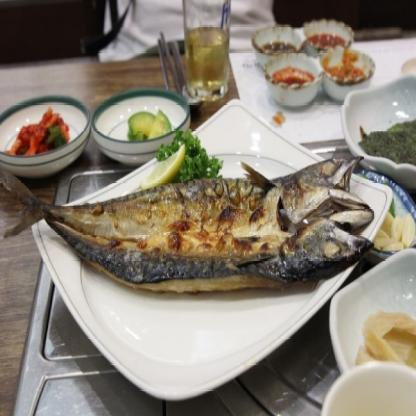Peixe: (0, 169, 386, 293)
